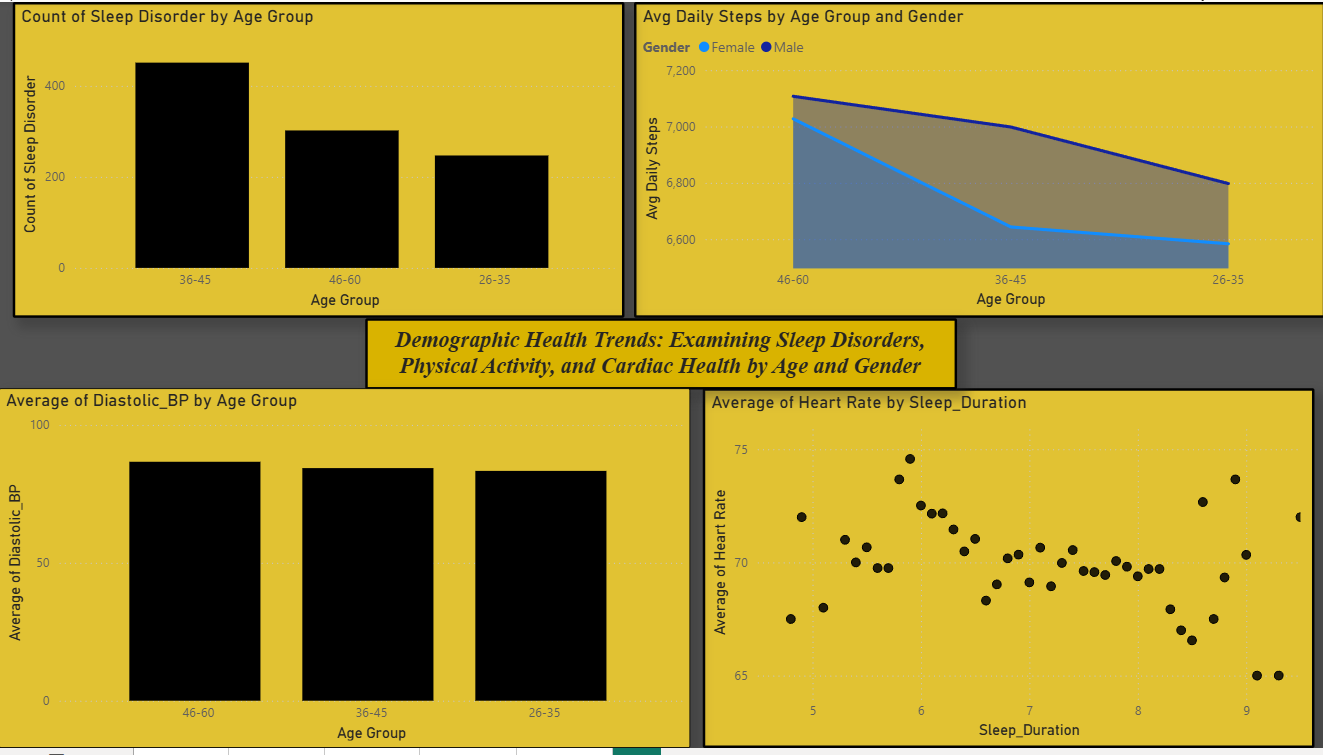

The page's visual inventory and layout, read from the dashboard file:
{"tool":"powerbi","page":{"name":"Page 4","canvas":[1280,720],"ordinal":3},"visuals":[{"type":"areaChart","fields":{"Category":["Sleep_health_and_lifestyle_data.Age Group"],"Y":["Sleep_health_and_lifestyle_data.Avg Daily Steps"],"Series":["Sleep_health_and_lifestyle_data.Gender"]},"box":[613.4,0,666.9,304.6],"z":1000},{"type":"scatterChart","fields":{"X":["Sleep_health_and_lifestyle_data.Sleep_Duration"],"Y":["Avg(Sleep_health_and_lifestyle_data.Heart Rate)"]},"box":[679.2,373.2,590.1,347.2],"z":2000},{"type":"columnChart","fields":{"Category":["Sleep_health_and_lifestyle_data.Age Group"],"Y":["CountNonNull(Sleep_health_and_lifestyle_data.Sleep Disorder)"]},"box":[13.7,0,590.1,304.6],"z":3000},{"type":"textbox","box":[354,304.6,570.8,68.6],"z":4000},{"type":"columnChart","fields":{"Category":["Sleep_health_and_lifestyle_data.Age Group"],"Y":["Avg(Sleep_health_and_lifestyle_data.Diastolic_BP)"]},"box":[0,373.2,666.9,347.2],"z":5000}]}

Visuals, with their boxes in screenshot pixels (x1, y1, x2, y2), scaled from the page's 1280x720 canvas onto the 1323x755 screenshot:
areaChart - Sleep_health_and_lifestyle_data.Age Group x Sleep_health_and_lifestyle_data.Avg Daily Steps: bbox(634, 0, 1322, 319)
scatterChart - Sleep_health_and_lifestyle_data.Sleep_Duration x Avg(Sleep_health_and_lifestyle_data.Heart Rate): bbox(702, 391, 1312, 754)
columnChart - Sleep_health_and_lifestyle_data.Age Group x CountNonNull(Sleep_health_and_lifestyle_data.Sleep Disorder): bbox(14, 0, 624, 319)
textbox: bbox(366, 319, 956, 391)
columnChart - Sleep_health_and_lifestyle_data.Age Group x Avg(Sleep_health_and_lifestyle_data.Diastolic_BP): bbox(0, 391, 689, 754)
